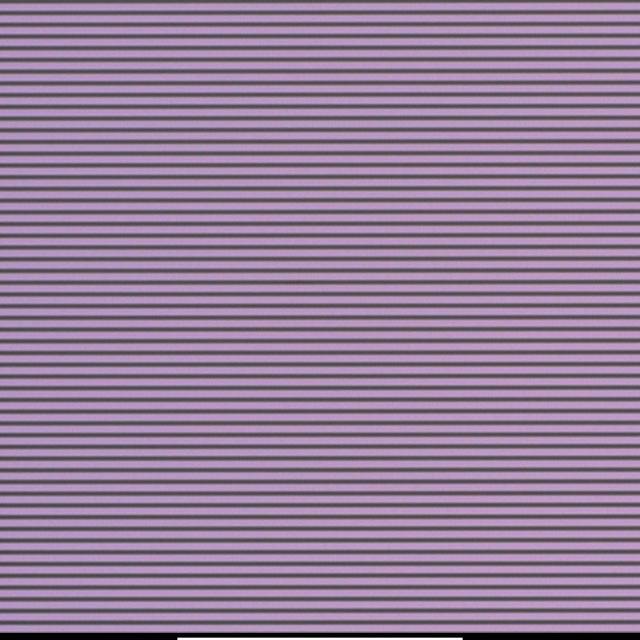03_intrusion: (291, 279, 300, 288)
